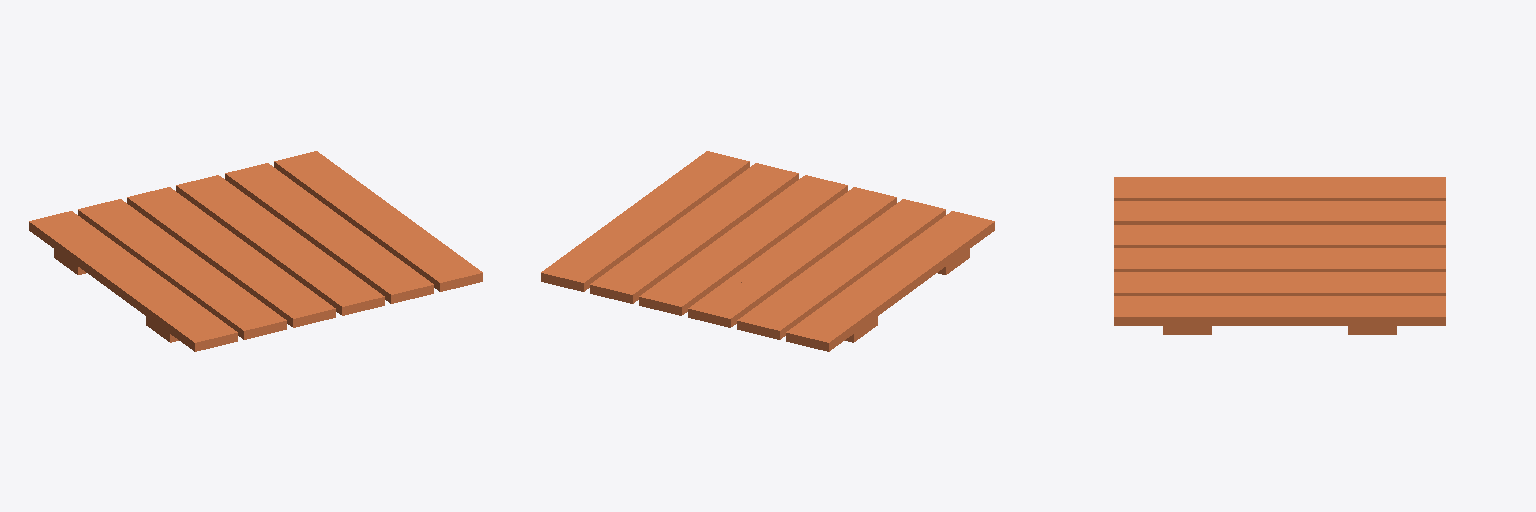
The model's file is planks.obj.
3 views of the same model, side by side, from view 1: azimuth 30°, elevation 25°; view 2: azimuth 150°, elevation 25°; view 3: azimuth 270°, elevation 25° (orthographic).
Parts seen in each view (by area): view 1: planks; view 2: planks; view 3: planks.
Boxes of the visible parts, x1,y1,x2,y2 form: planks: [29, 151, 482, 351]; planks: [541, 151, 994, 351]; planks: [1114, 177, 1445, 334].
Size of the model in its own units: 1 by 0.06 by 1.